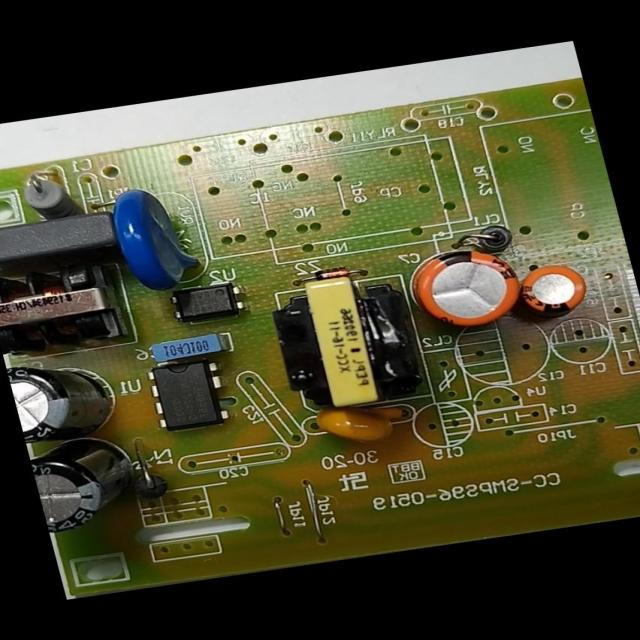Cap1: (398, 238, 535, 338)
Cap2: (504, 255, 604, 326)
Cap3: (6, 349, 130, 450)
Cap4: (26, 428, 158, 539)
MOSFET: (134, 350, 242, 440)
Mov: (90, 174, 216, 304)
Resistor: (10, 166, 94, 232)
Transformer: (254, 260, 442, 424), (0, 246, 152, 368)
